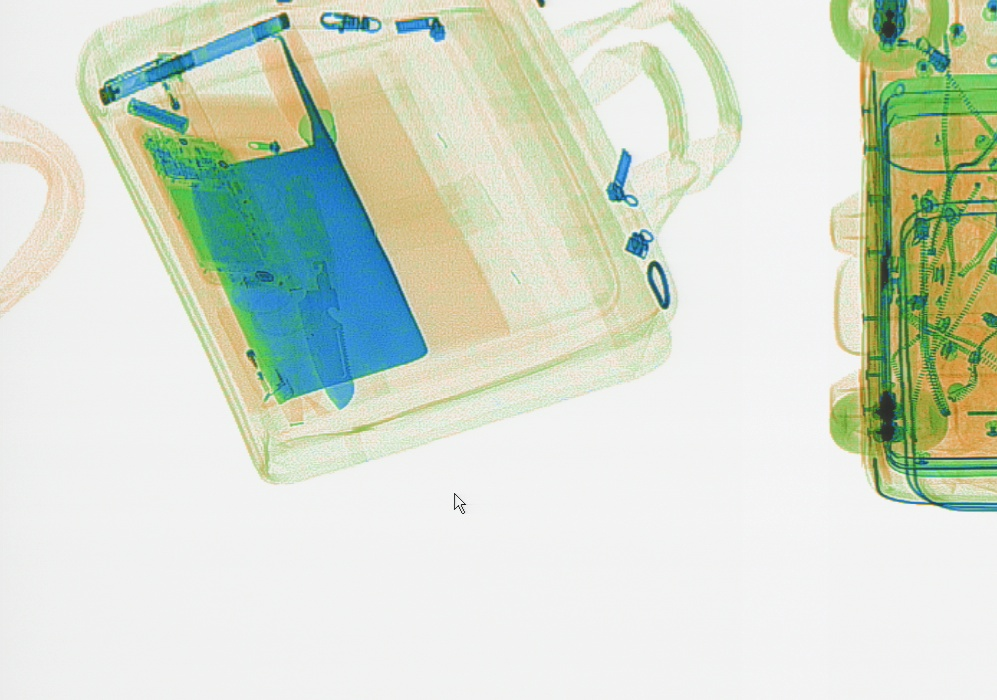knife: (189, 9, 428, 404), (280, 171, 355, 410)
lighter: (146, 49, 223, 167)
